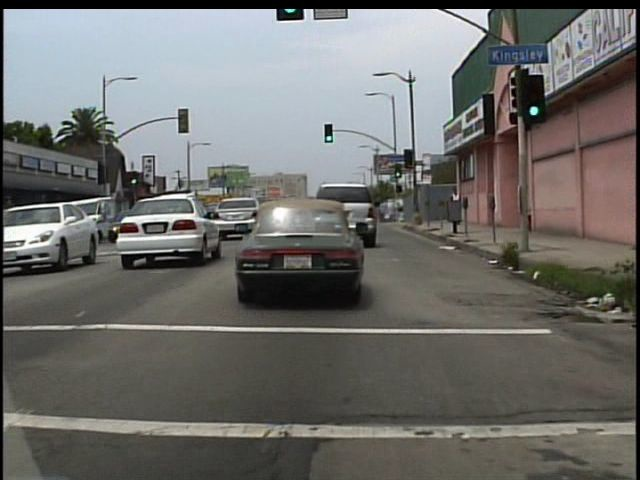person: (449, 185, 464, 226)
